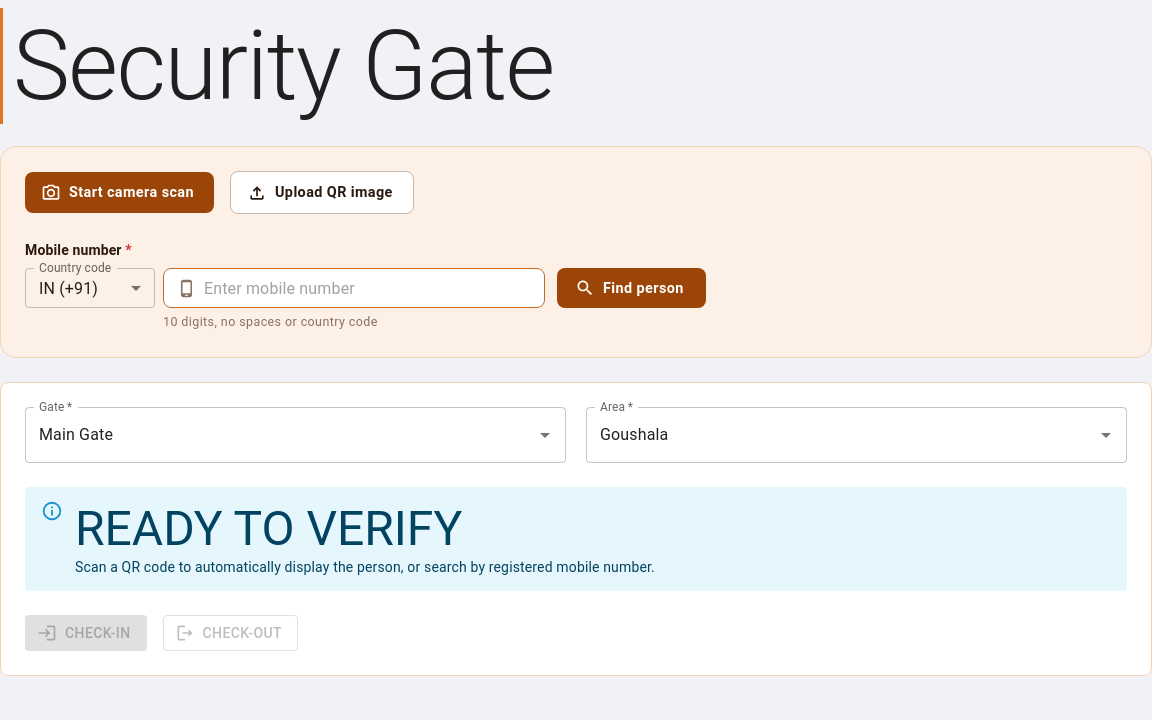
Test: reports camera permission failure and leaves image upload available
Click the button "Start camera scan".
click(120, 193)  # box top-left (25, 172), bottom-right (214, 213)
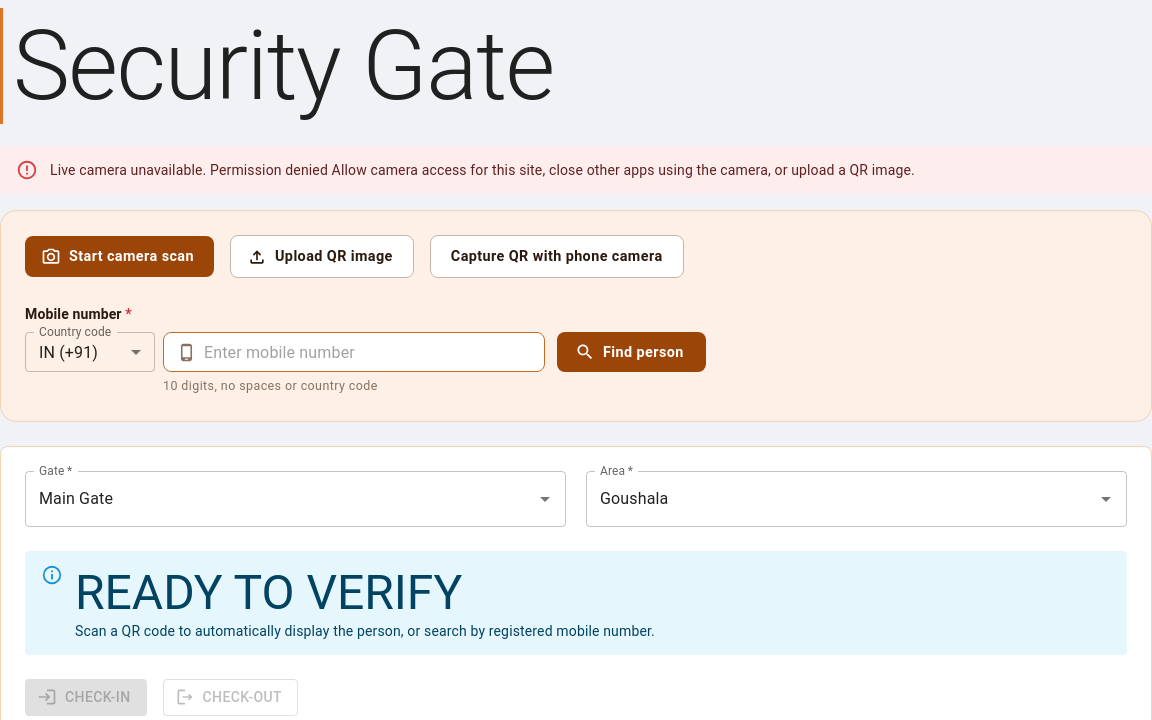
Check: the button "Upload QR image" is enabled, box top-left (230, 235), bottom-right (414, 278)
Check: the text "Live camera unavailable. Permission denied" is shown, box top-left (50, 162), bottom-right (915, 178)
Check: the button "Capture QR with phone camera" is enabled, box top-left (430, 235), bottom-right (684, 278)
